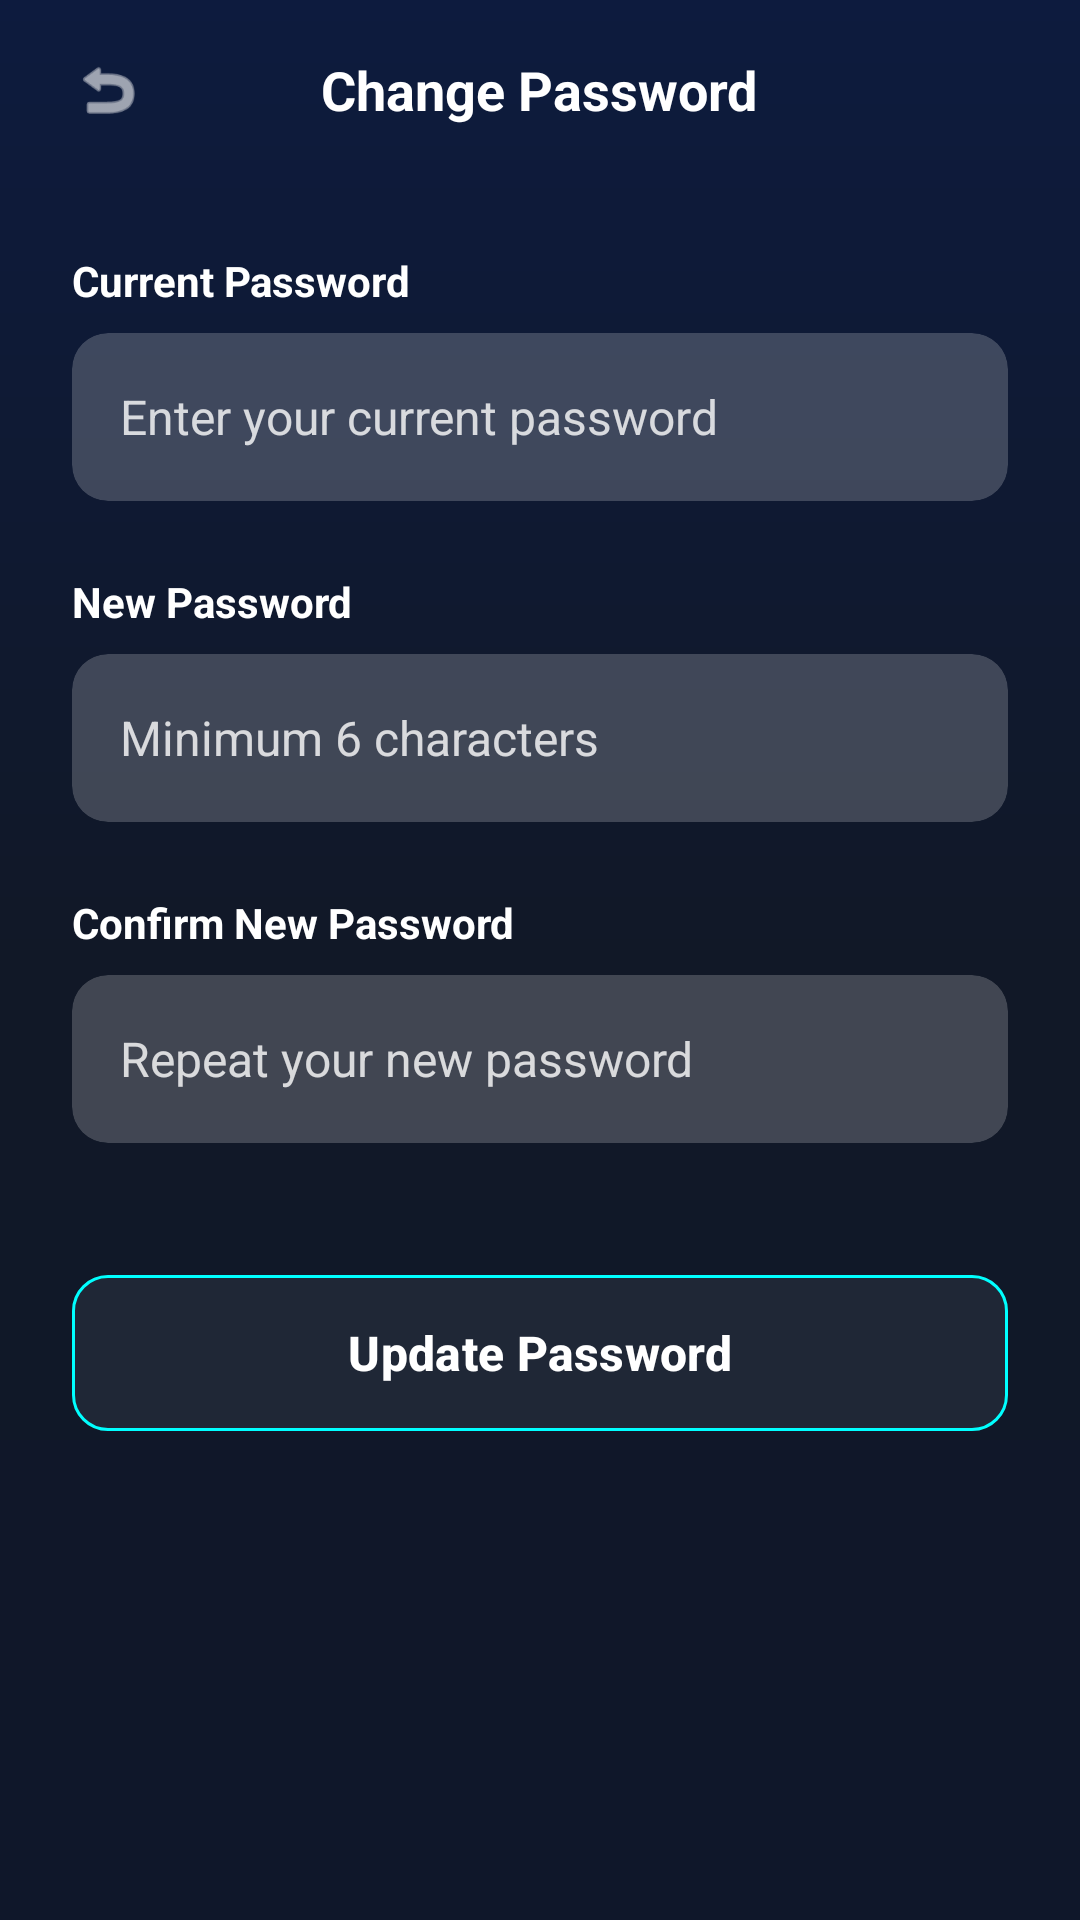

Named icons in this screenshot (1080 × 1920) and their bounding boxes, (x1, y1, x2, y2):
revert: (83, 67, 135, 114)
